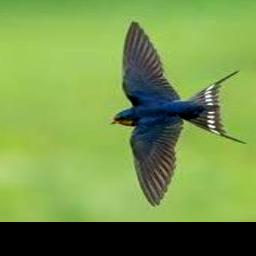Swallow: (110, 21, 247, 207)
